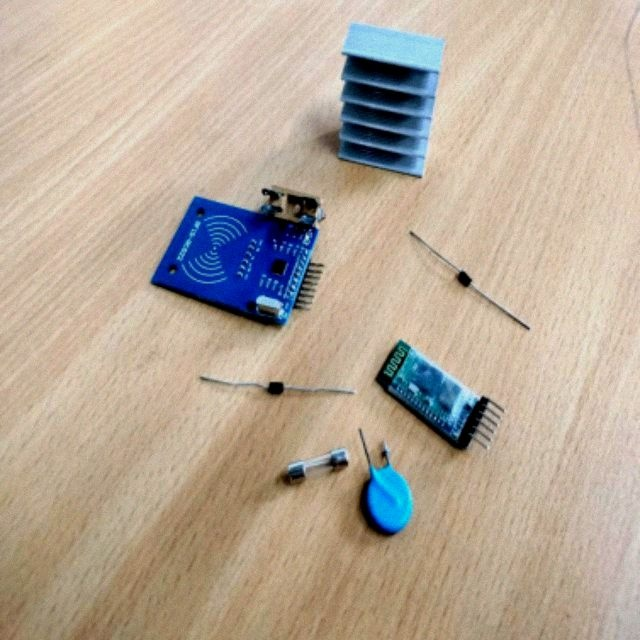capacitor: (360, 467, 412, 536)
